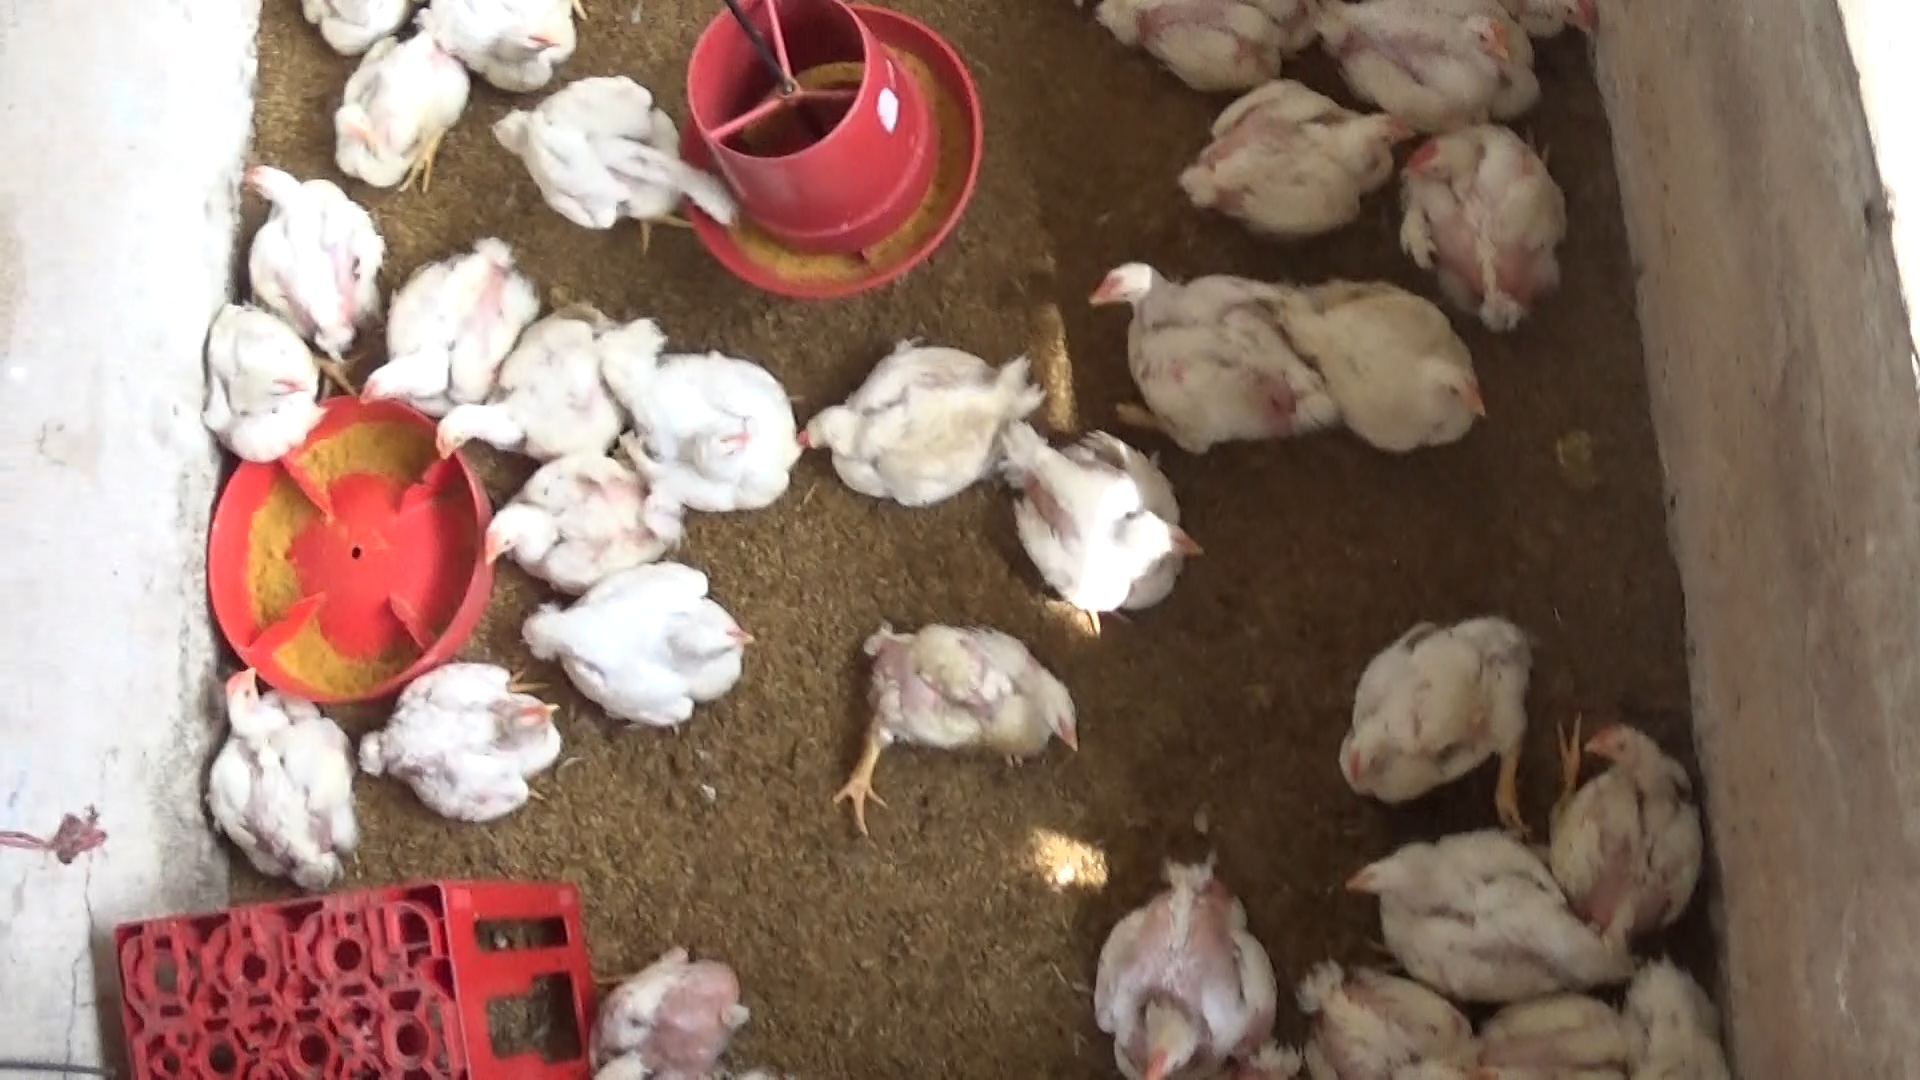Pollos: (822, 611, 1092, 822), (1077, 241, 1335, 458), (1332, 822, 1631, 1000), (1327, 593, 1547, 825), (487, 69, 745, 258), (773, 343, 1054, 516), (517, 554, 764, 748), (1091, 843, 1275, 1080), (997, 413, 1215, 612), (417, 291, 646, 472), (1276, 276, 1487, 465), (353, 649, 571, 832), (195, 658, 367, 889), (1171, 76, 1414, 239), (1545, 703, 1712, 936), (1391, 119, 1567, 336), (628, 323, 795, 526), (471, 440, 686, 593), (345, 232, 527, 413), (236, 153, 390, 359), (1311, 0, 1524, 142), (1282, 936, 1486, 1080), (316, 28, 471, 194), (591, 948, 777, 1080), (179, 286, 322, 456), (417, 0, 596, 96)
